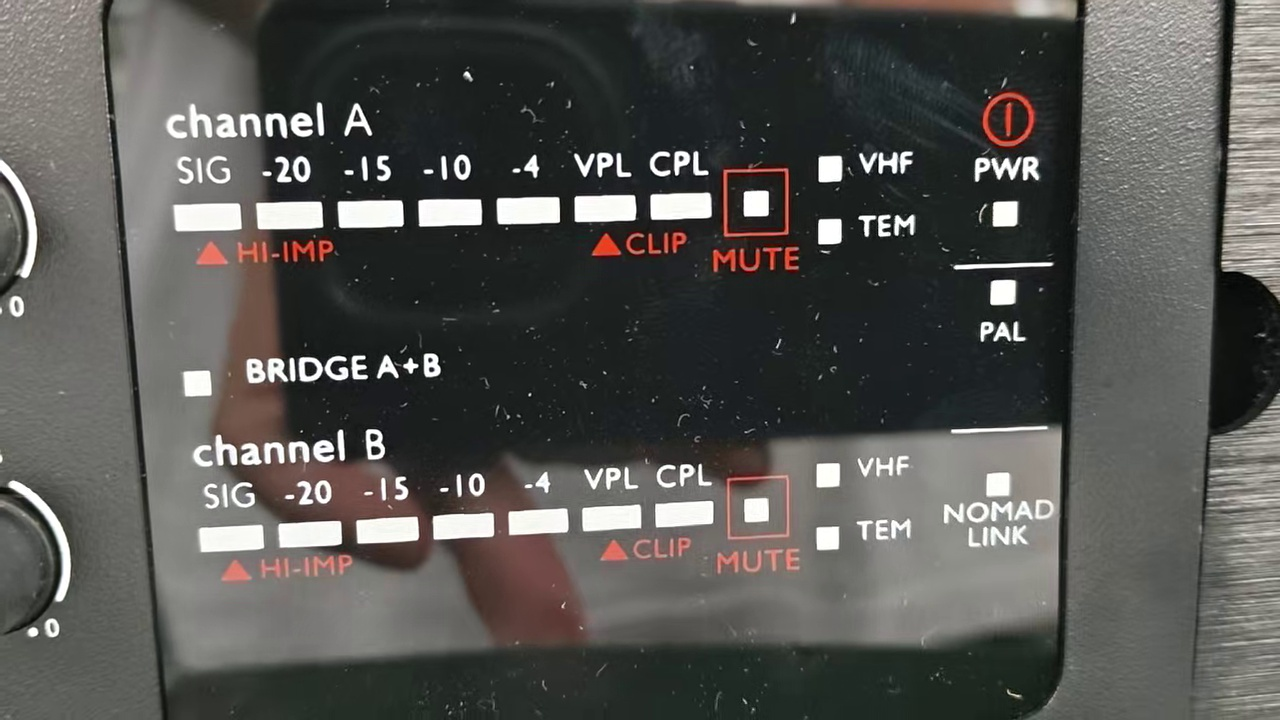FP_CPL: (637, 145, 718, 231), (646, 452, 721, 540)
FP_PWR: (952, 151, 1054, 233)
FP_PWR_area: (951, 83, 1053, 262)
FP_SIG_area: (186, 426, 923, 580), (163, 145, 927, 281)
FP_VPL: (576, 452, 643, 542), (569, 146, 639, 231)
